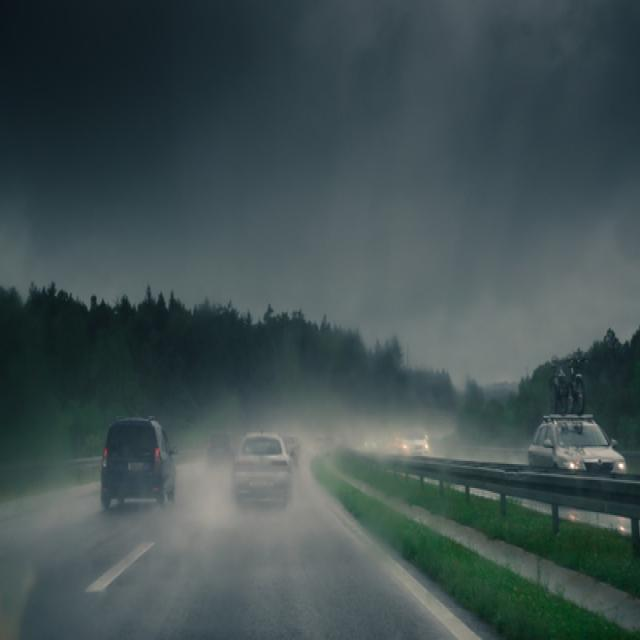car: (98, 414, 177, 510), (524, 414, 626, 474), (234, 432, 292, 509), (547, 355, 571, 413), (204, 428, 236, 470), (567, 355, 584, 421), (400, 426, 430, 456), (286, 430, 299, 470)
